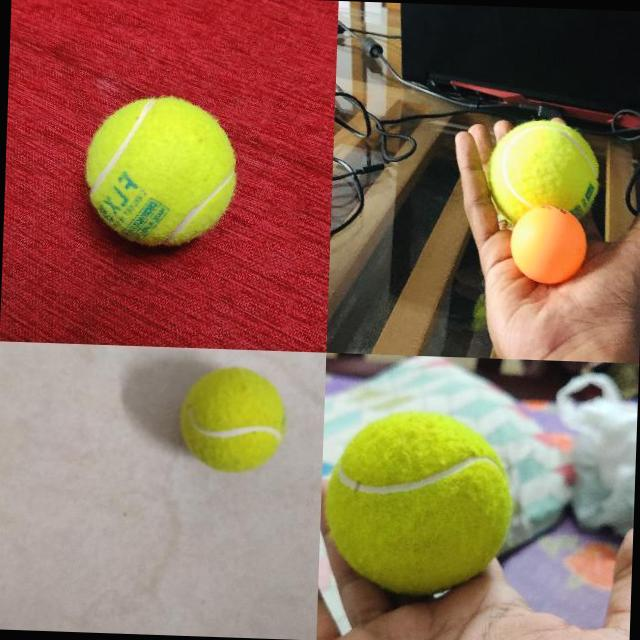Tennis Ball: (320, 406, 516, 597), (83, 92, 240, 248), (178, 366, 288, 473), (486, 118, 600, 206)
